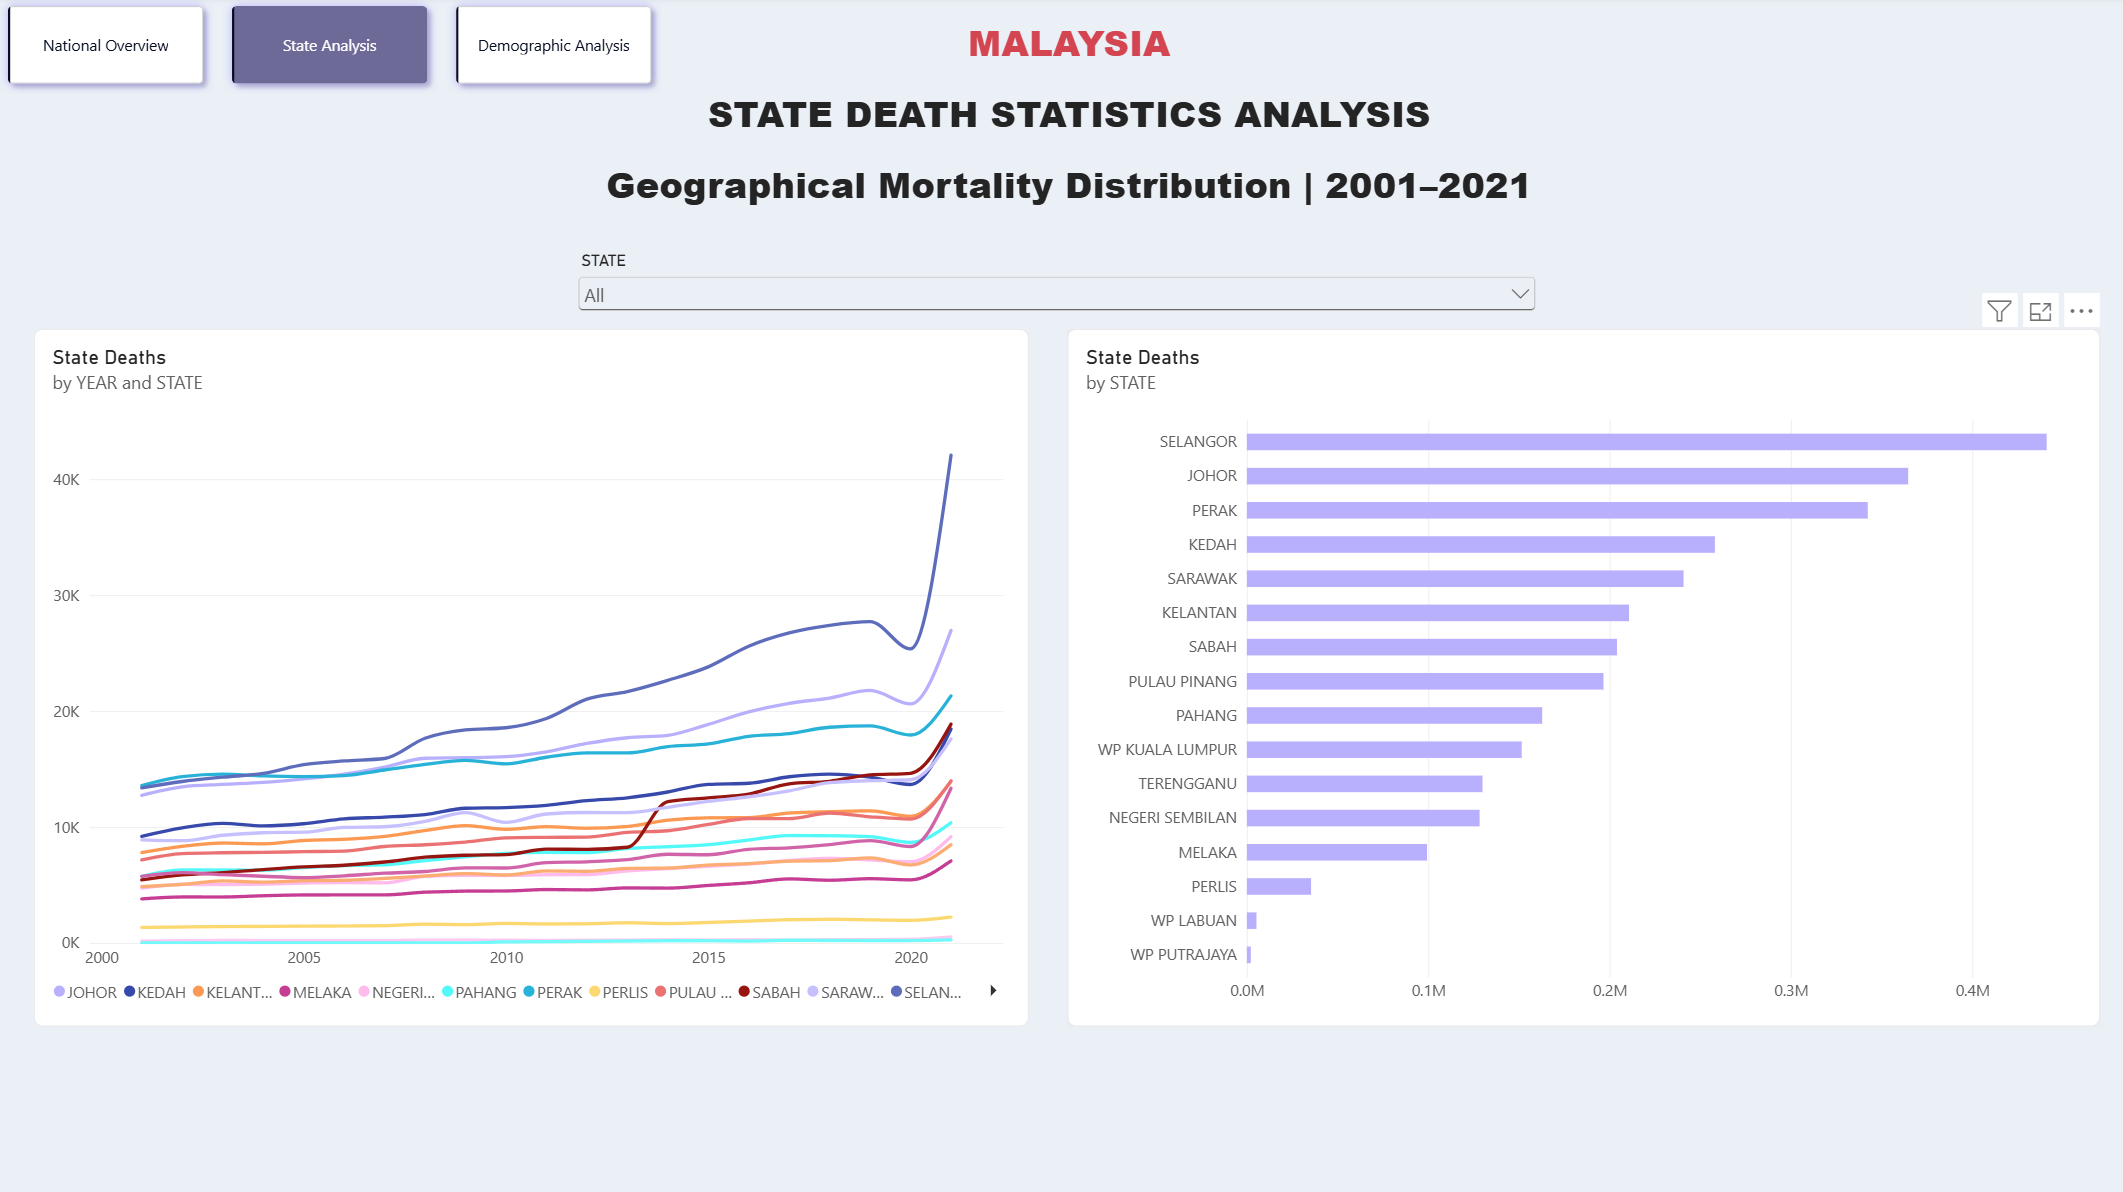

What the dashboard file says about the page in this screenshot:
{"tool":"powerbi","page":{"name":"State Analysis","canvas":[1920,1080],"ordinal":1},"visuals":[{"type":"textbox","box":[10.6,0,1910,215.7],"z":0},{"type":"clusteredBarChart","fields":{"Category":["Death Data.STATE"],"Y":["Death Data.State Deaths"]},"box":[964.8,300,930.7,628.8],"z":1000},{"type":"lineChart","fields":{"Category":["Death Data.YEAR"],"Series":["Death Data.STATE"],"Y":["Death Data.State Deaths"]},"box":[32.3,300,896.5,628.8],"z":2000},{"type":"slicer","fields":{"Values":["Death Data.STATE"]},"box":[517.4,230,873.2,70.1],"z":3000},{"type":"pageNavigator","box":[0,0,599.6,88.6],"z":4000}]}

Visuals, with their boxes in screenshot pixels (x1, y1, x2, y2), scaled from the page's 1920x1080 canvas onto the 2123x1192 screenshot:
textbox: [12, 0, 2122, 238]
clusteredBarChart - Death Data.STATE x Death Data.State Deaths: [1067, 331, 2096, 1025]
lineChart - Death Data.YEAR x Death Data.STATE: [36, 331, 1027, 1025]
slicer - Death Data.STATE: [572, 254, 1538, 331]
pageNavigator: [0, 0, 663, 98]
